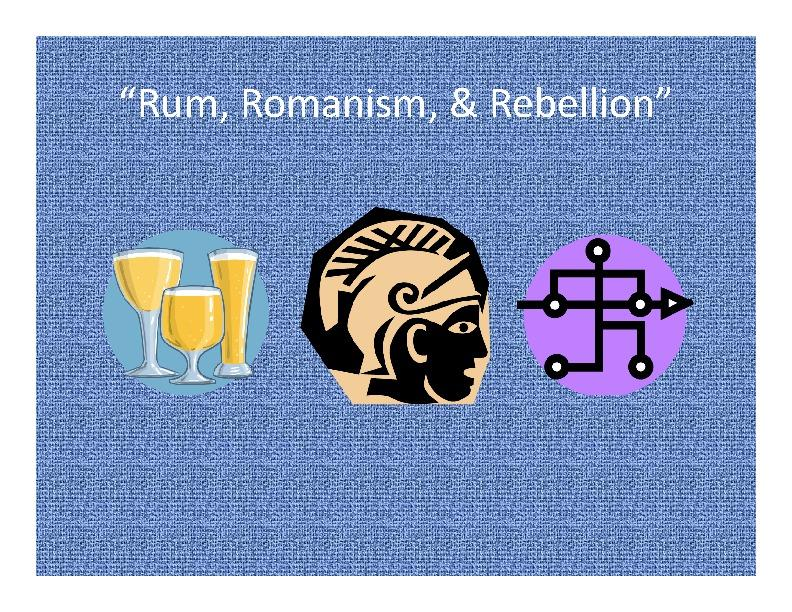title: (107, 68, 694, 141)
